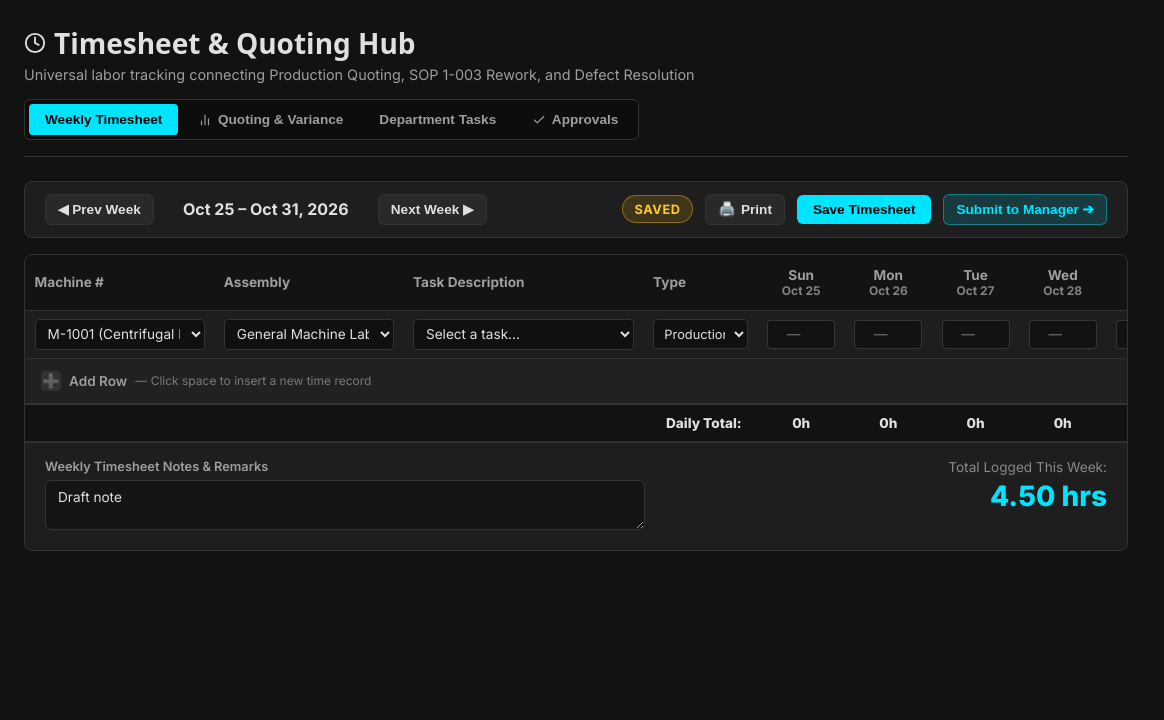
Scenario: TimesheetPage › shows delete button only for admins in the approvals view and hides it for managers
Click the button "Approvals". click: (575, 120)
box: x1=516 y1=104 x2=634 y2=135
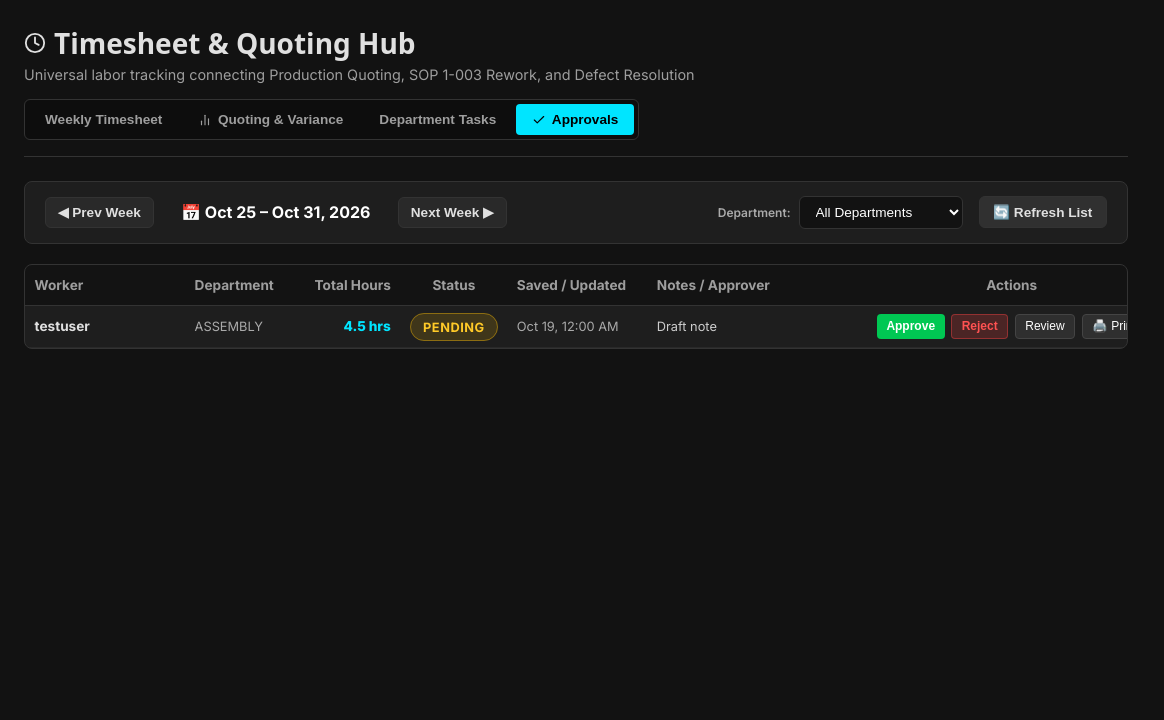
Now the button "Approve" is shown, box x1=877 y1=314 x2=945 y2=339
Now the button "Reject" is shown, box x1=951 y1=314 x2=1008 y2=339
Now the button "Review" is shown, box x1=1015 y1=314 x2=1075 y2=339
